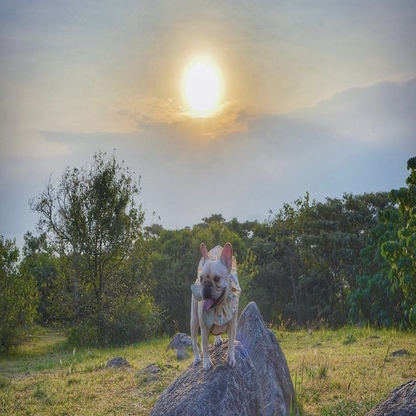bulldog: (187, 240, 243, 370)
